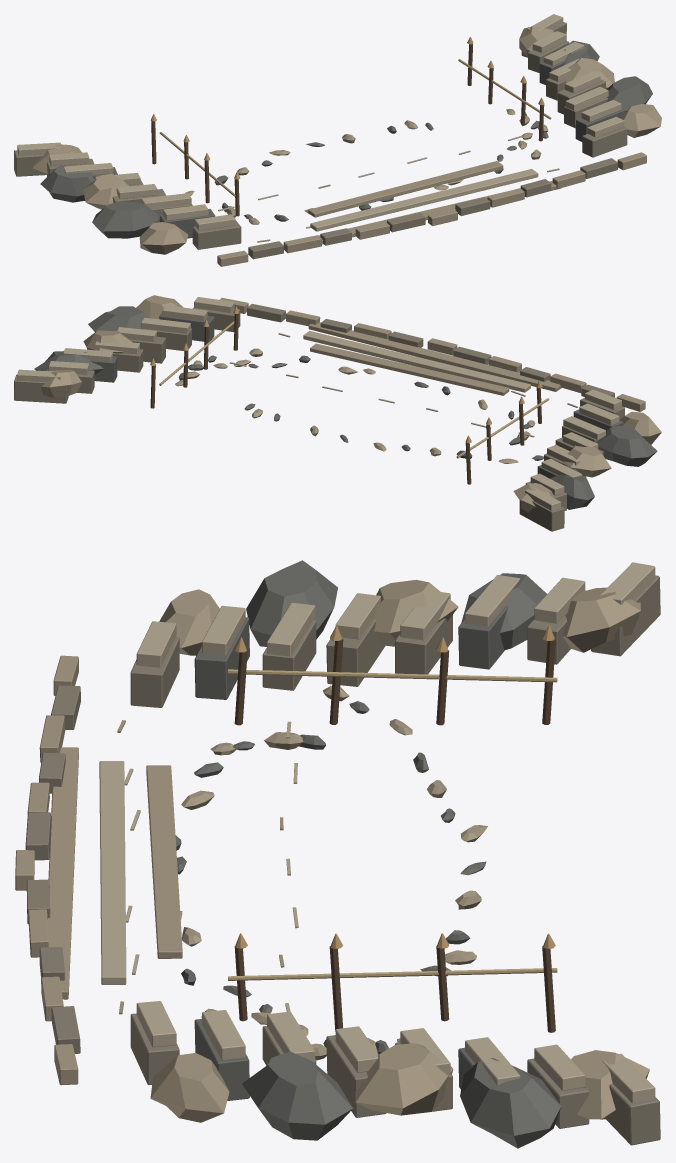
The model's file is palace-foreground-terrace-wall.glb.
The picture shows the model from 3 angles, top to bottom: view 1: azimuth 30°, elevation 25°; view 2: azimuth 150°, elevation 25°; view 3: azimuth 270°, elevation 25°; orthographic projection. The views are drawn at different scales.
Parts seen in each view (by area): view 1: palace_foreground_step_tread_1, palace_foreground_step_tread_2, palace_foreground_cliff_shoulder_l_1, palace_foreground_cliff_shoulder_l_3, palace_foreground_cliff_shoulder_l_0, palace_foreground_cliff_shoulder_r_1, palace_foreground_cliff_shoulder_r_0, palace_foreground_side_retainer_l_0, palace_foreground_cliff_shoulder_l_2, palace_foreground_side_retainer_r_0, palace_foreground_cliff_shoulder_r_2, palace_foreground_wall_cap_l_2 (+33 smaller); view 2: palace_foreground_step_tread_1, palace_foreground_step_tread_0, palace_foreground_step_tread_2, palace_foreground_cliff_shoulder_l_1, palace_foreground_cliff_shoulder_r_1, palace_foreground_cliff_shoulder_l_2, palace_foreground_cliff_shoulder_l_3, palace_foreground_cliff_shoulder_r_4, palace_foreground_side_retainer_r_7, palace_foreground_side_retainer_l_7, palace_foreground_cliff_shoulder_l_0, palace_foreground_cliff_shoulder_r_2 (+29 smaller); view 3: palace_foreground_cliff_shoulder_r_1, palace_foreground_step_tread_1, palace_foreground_cliff_shoulder_r_3, palace_foreground_step_tread_2, palace_foreground_step_tread_0, palace_foreground_cliff_shoulder_r_2, palace_foreground_cliff_shoulder_l_1, palace_foreground_cliff_shoulder_r_0, palace_foreground_cliff_shoulder_l_4, palace_foreground_cliff_shoulder_l_2, palace_foreground_cliff_shoulder_l_0, palace_foreground_cliff_shoulder_r_4 (+37 smaller).
Part boxes in pixels (bbox=[...]): palace_foreground_step_tread_1: bbox=[310, 169, 538, 231]; palace_foreground_step_tread_2: bbox=[308, 161, 503, 217]; palace_foreground_cliff_shoulder_l_1: bbox=[92, 201, 158, 238]; palace_foreground_cliff_shoulder_l_3: bbox=[40, 165, 94, 202]; palace_foreground_cliff_shoulder_l_0: bbox=[139, 222, 188, 254]; palace_foreground_cliff_shoulder_r_1: bbox=[606, 76, 652, 111]; palace_foreground_cliff_shoulder_r_0: bbox=[619, 104, 661, 137]; palace_foreground_side_retainer_l_0: bbox=[192, 220, 241, 249]; palace_foreground_cliff_shoulder_l_2: bbox=[83, 173, 129, 209]; palace_foreground_side_retainer_r_0: bbox=[582, 127, 627, 157]; palace_foreground_cliff_shoulder_r_2: bbox=[564, 58, 614, 89]; palace_foreground_wall_cap_l_2: bbox=[141, 193, 191, 208]; palace_foreground_step_tread_1: bbox=[303, 331, 530, 392]; palace_foreground_step_tread_0: bbox=[308, 322, 561, 391]; palace_foreground_step_tread_2: bbox=[310, 343, 509, 395]; palace_foreground_cliff_shoulder_l_1: bbox=[596, 425, 657, 466]; palace_foreground_cliff_shoulder_r_1: bbox=[88, 306, 148, 331]; palace_foreground_cliff_shoulder_l_2: bbox=[563, 445, 611, 477]; palace_foreground_cliff_shoulder_l_3: bbox=[550, 468, 594, 509]; palace_foreground_cliff_shoulder_r_4: bbox=[41, 369, 81, 397]; palace_foreground_side_retainer_r_7: bbox=[14, 374, 68, 403]; palace_foreground_side_retainer_l_7: bbox=[519, 500, 564, 531]; palace_foreground_cliff_shoulder_l_0: bbox=[619, 411, 661, 444]; palace_foreground_cliff_shoulder_r_2: bbox=[83, 330, 132, 353]; palace_foreground_cliff_shoulder_r_1: bbox=[242, 1051, 352, 1140]; palace_foreground_step_tread_1: bbox=[99, 761, 126, 984]; palace_foreground_cliff_shoulder_r_3: bbox=[460, 1058, 561, 1148]; palace_foreground_step_tread_2: bbox=[146, 765, 182, 958]; palace_foreground_step_tread_0: bbox=[47, 747, 78, 999]; palace_foreground_cliff_shoulder_r_2: bbox=[355, 1043, 453, 1115]; palace_foreground_cliff_shoulder_l_1: bbox=[246, 560, 337, 646]; palace_foreground_cliff_shoulder_r_0: bbox=[150, 1053, 229, 1122]; palace_foreground_cliff_shoulder_l_4: bbox=[562, 587, 640, 652]; palace_foreground_cliff_shoulder_l_2: bbox=[374, 579, 458, 646]; palace_foreground_cliff_shoulder_l_0: bbox=[159, 589, 219, 655]; palace_foreground_cliff_shoulder_r_4: bbox=[571, 1050, 649, 1119].
Bounding box in the file's own units: 16.47 × 1.58 × 8.26.
